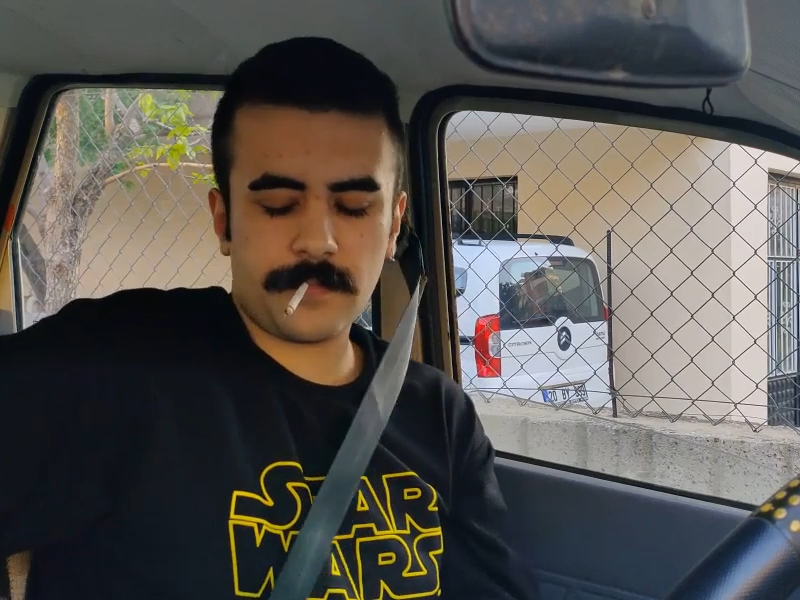sigara: (279, 279, 313, 322)
